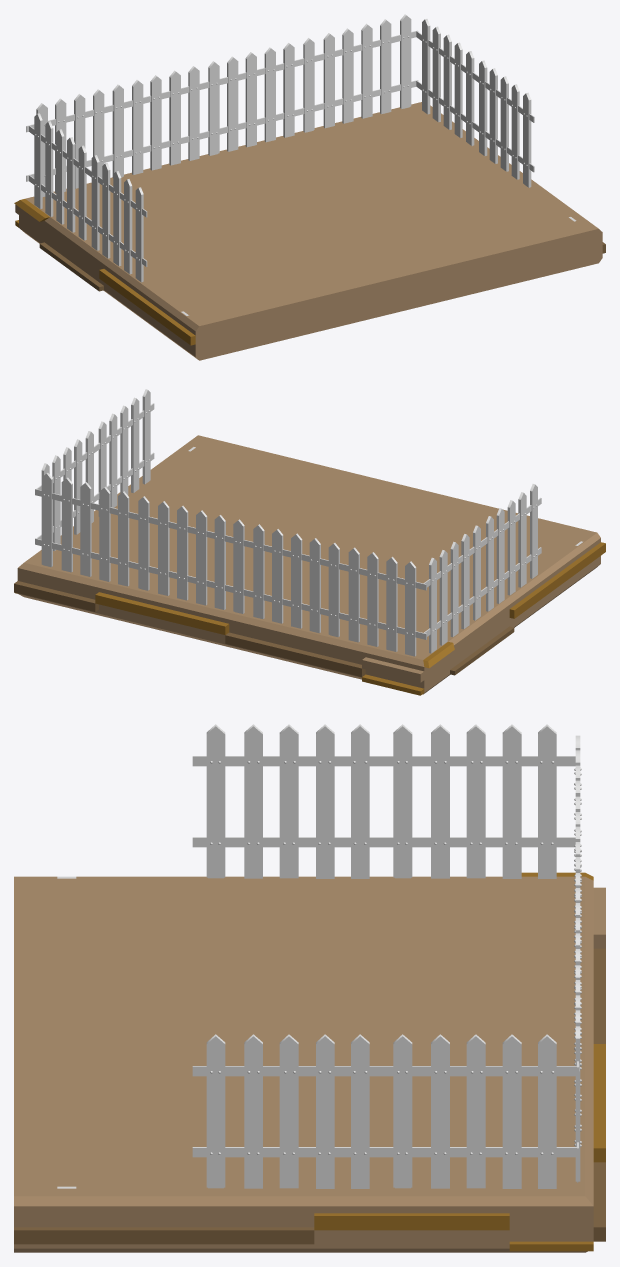
Rendered from balcon_good.fbx.
3 renders of one model, top to bottom at view 1: azimuth 30°, elevation 25°; view 2: azimuth 150°, elevation 25°; view 3: azimuth 270°, elevation 25°, orthographic. The views are drawn at different scales.
Parts seen in each view (by area): view 1: cloture15; view 2: cloture15; view 3: cloture15.
Part boxes in pixels (x1,y1,x2,y2): cloture15: (14,14,605,360); cloture15: (14,389,605,695); cloture15: (14,724,605,1252).
Bounding box in the file's own units: 28.32 × 8.33 × 21.33.
